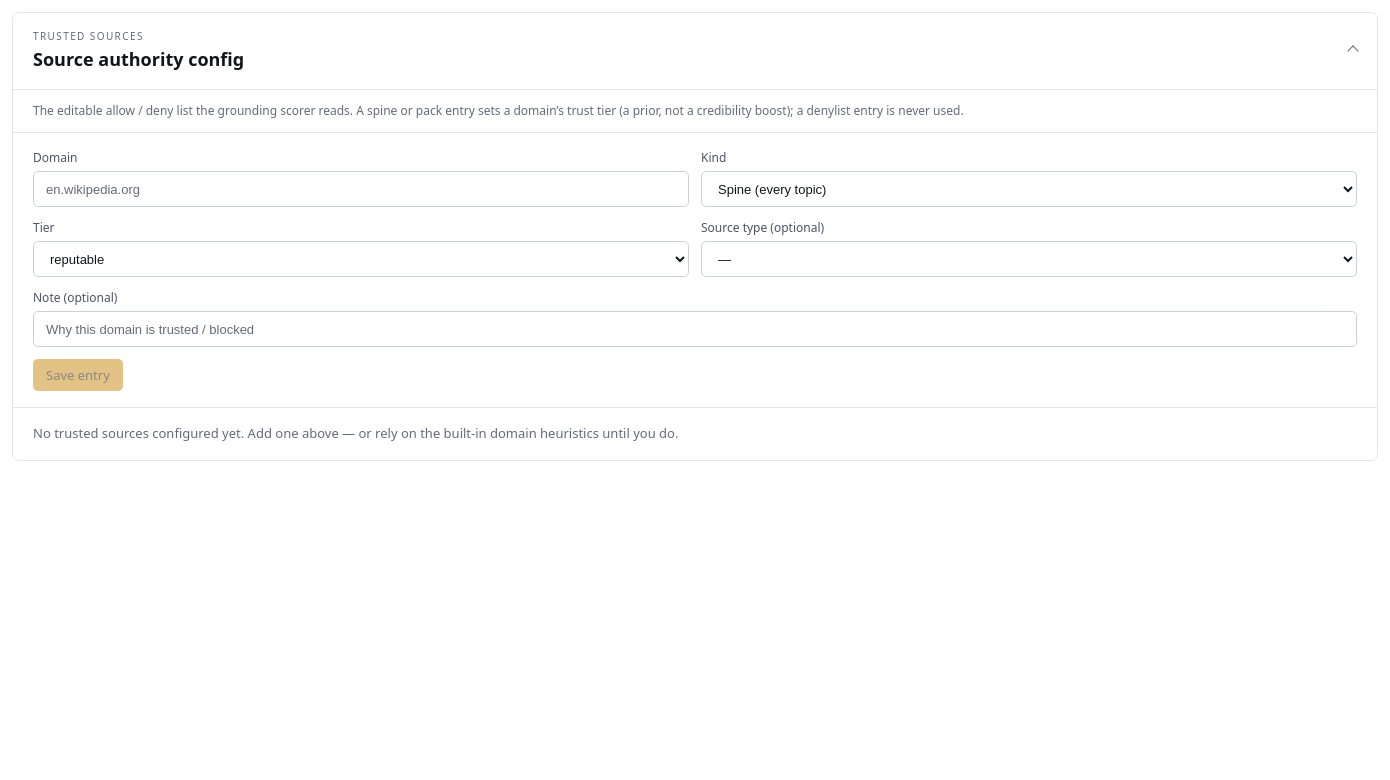
TrustedSourcesPanel › submits a new authority and reloads
Expected: the text "No trusted sources configured" is shown, [33,424,678,442]
Type "w3.org" into the field labelled "Domain" at (361, 189), box [33,171,689,207]
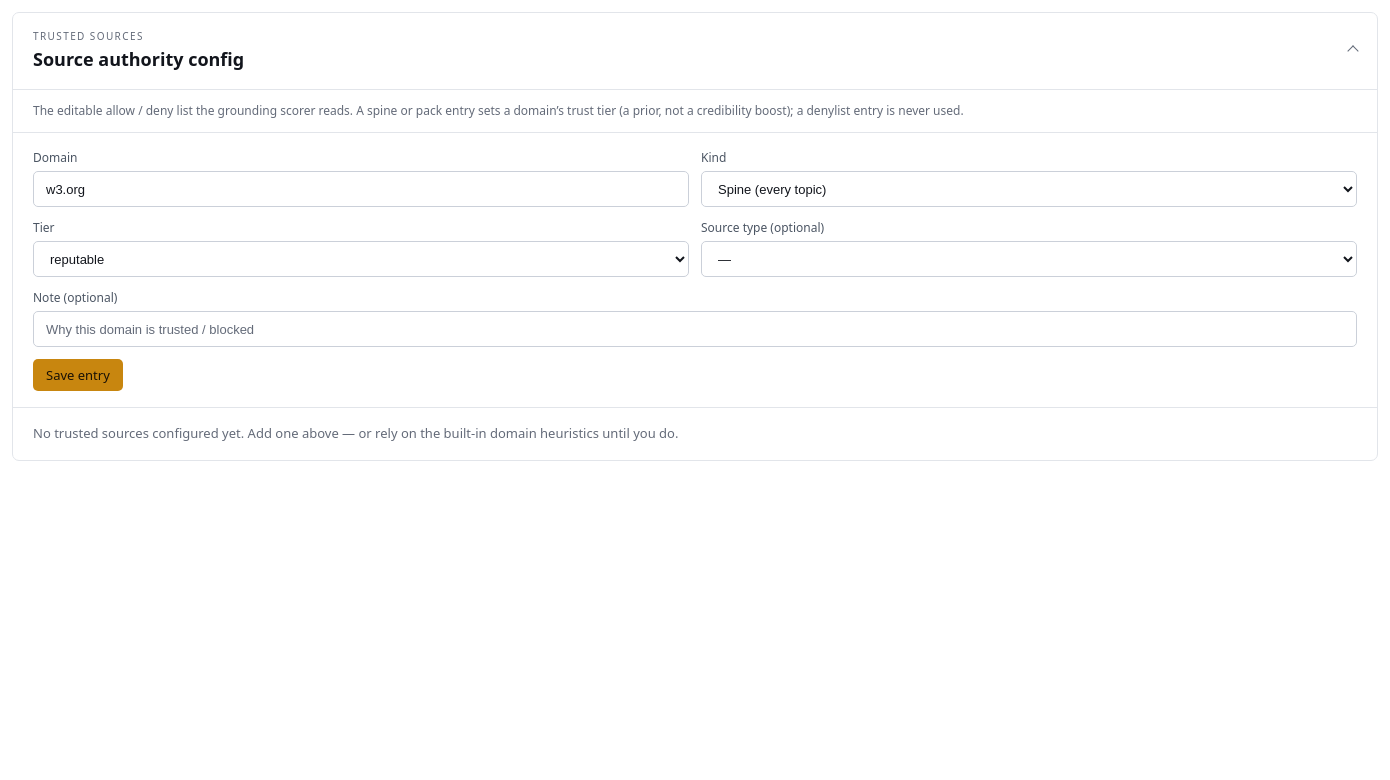
Click the button "Save entry" at (78, 375), box [33,359,123,391]
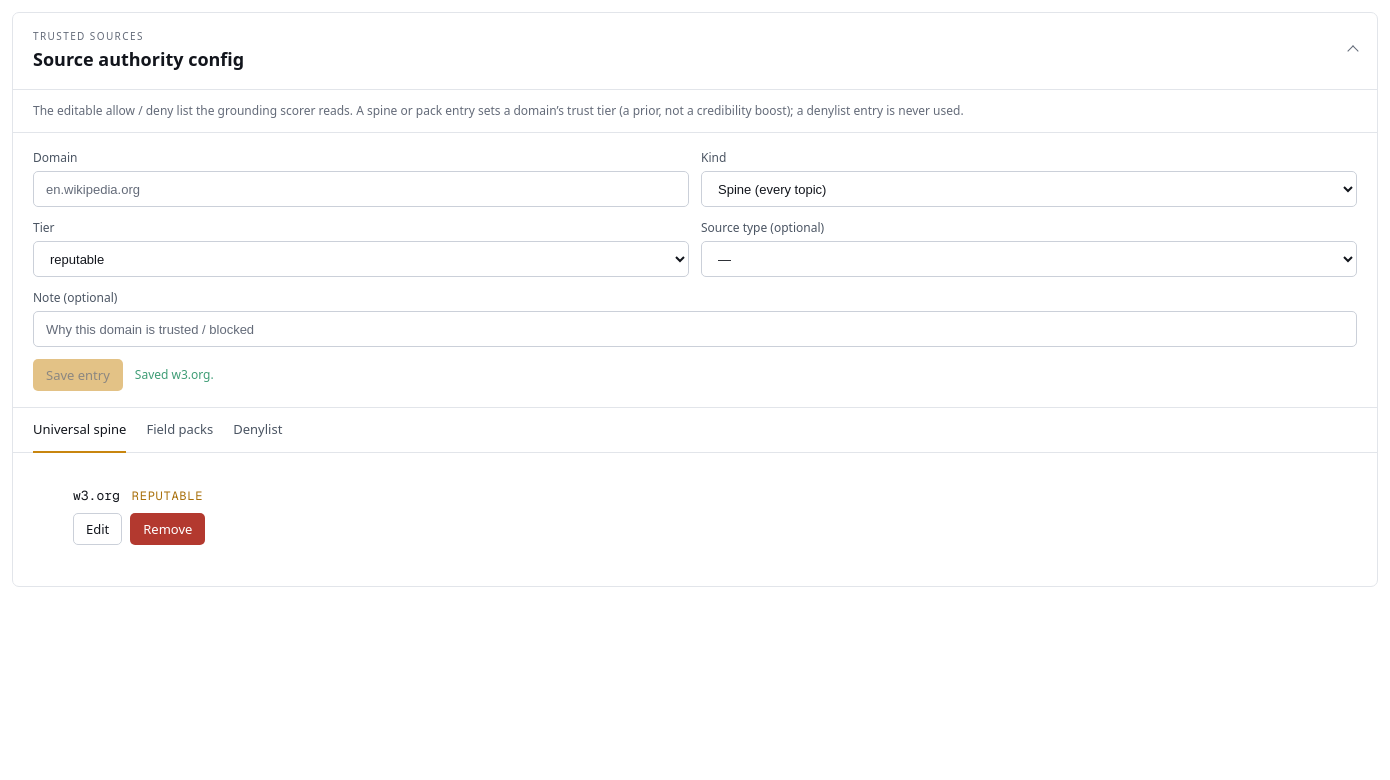
Expected: the text "Saved w3.org." is shown, [135,366,214,384]
